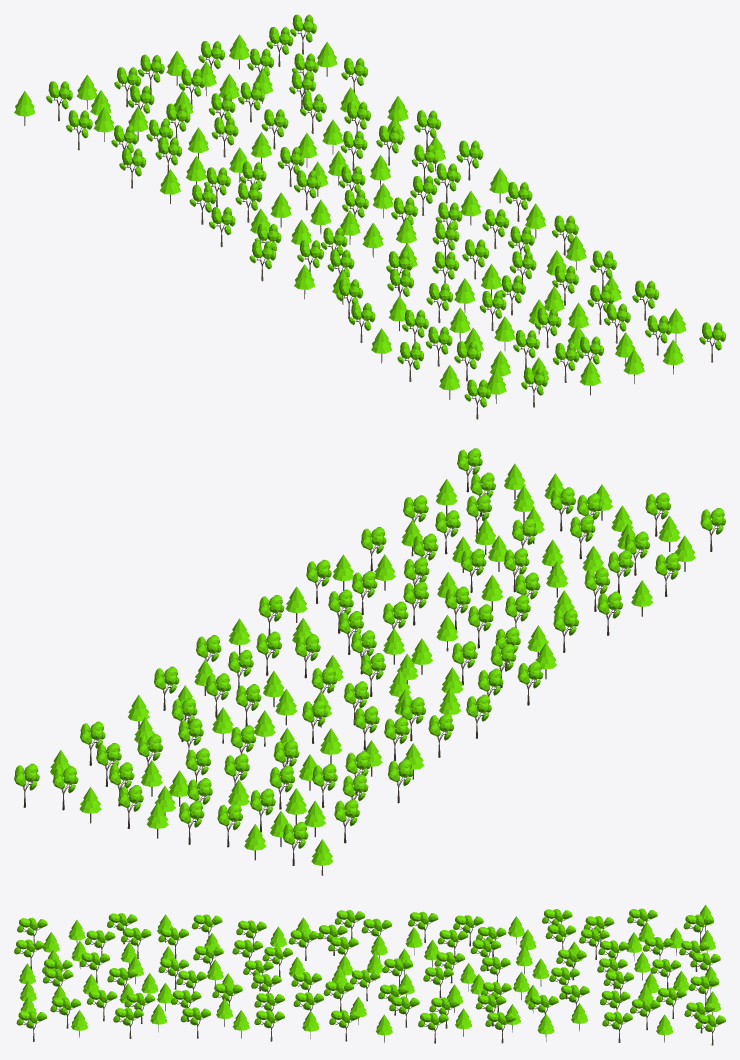
File: groun_thrrr_right.fbx
The picture shows the model from 3 angles, top to bottom: view 1: azimuth 30°, elevation 25°; view 2: azimuth 150°, elevation 25°; view 3: azimuth 270°, elevation 25°; orthographic projection. The views are drawn at different scales.
Parts seen in each view (by area): view 1: chjer2.022; view 2: chjer2.022; view 3: chjer2.022.
Part boxes in pixels (left/top/right/bottom): chjer2.022: left=14, top=14, right=725, bottom=419; chjer2.022: left=14, top=448, right=725, bottom=875; chjer2.022: left=14, top=904, right=725, bottom=1045.
Bounding box in the file's own units: 10482 × 1273 × 26320.
